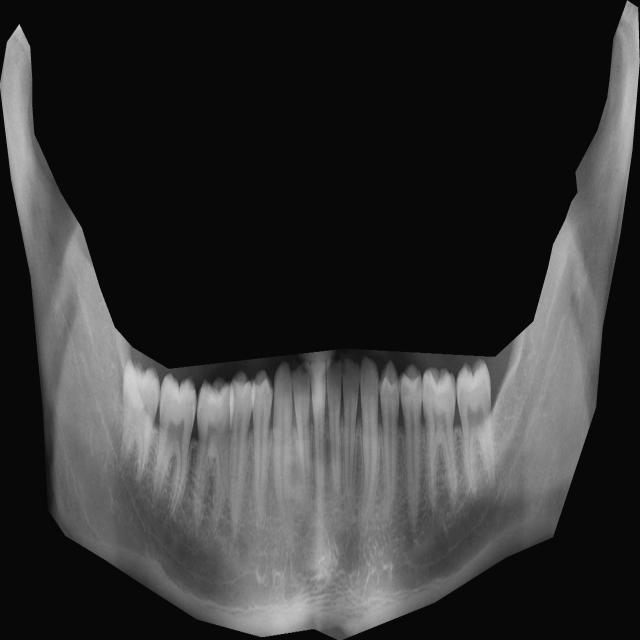mandibula: (0, 0, 640, 640)
